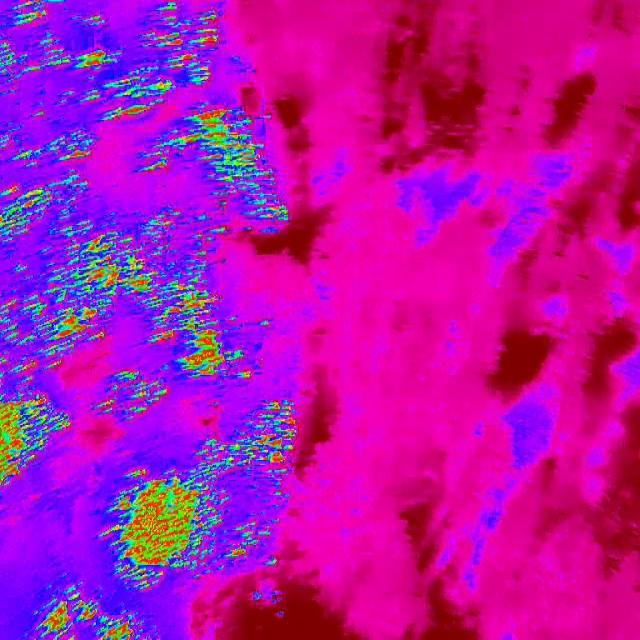fire: (0, 0, 224, 484), (100, 392, 321, 590), (224, 99, 288, 236), (34, 576, 156, 640), (226, 308, 274, 382)
